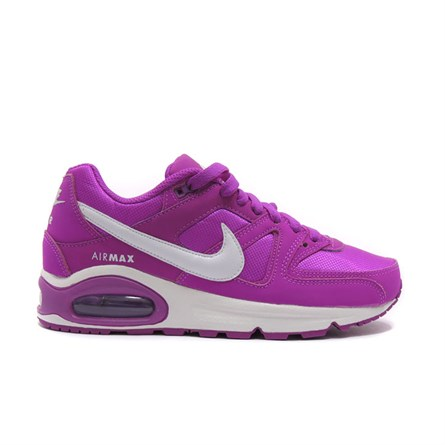nike: (86, 200, 251, 286)
